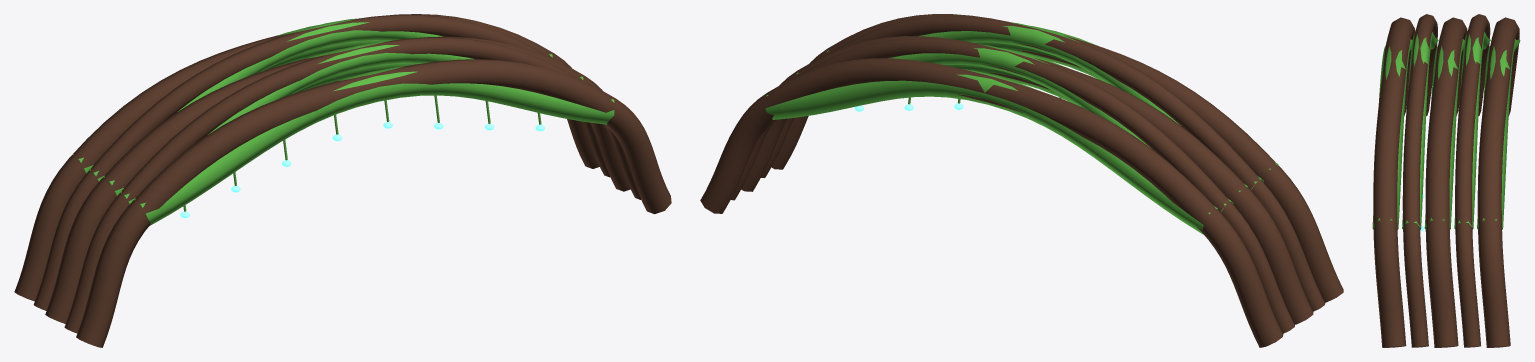
The model's file is gerbang-akar.glb.
3 views of the same model, side by side, from view 1: azimuth 30°, elevation 25°; view 2: azimuth 150°, elevation 25°; view 3: azimuth 270°, elevation 25° (orthographic). The views are drawn at different scales.
Visible parts, largest first — view 1: tube, tube.002, tube.006, tube.001, tube.004, tube.008, tube.007, tube.003, tube.005, tube.009; view 2: tube.008, tube.006, tube.002, tube.004, tube, tube.009, tube.007, tube.003, tube.001, tube.005; view 3: tube.008, tube, tube.004, tube.006, tube.002, tube.003, tube.007, tube.009, tube.001, tube.005.
Part boxes in pixels (box(x1,y1,x2,y2)): tube: box(76, 59, 671, 347); tube.002: box(64, 37, 640, 333); tube.006: box(33, 14, 609, 310); tube.001: box(134, 66, 614, 225); tube.004: box(45, 36, 630, 323); tube.008: box(14, 14, 599, 301); tube.007: box(89, 18, 442, 181); tube.003: box(120, 41, 474, 203); tube.005: box(103, 47, 583, 195); tube.009: box(72, 25, 552, 173); tube.008: box(700, 58, 1283, 347); tube.006: box(731, 38, 1294, 333); tube.002: box(761, 16, 1325, 311); tube.004: box(741, 36, 1313, 324); tube: box(771, 14, 1343, 302); tube.009: box(765, 69, 1217, 234); tube.007: box(889, 44, 1231, 211); tube.003: box(918, 22, 1261, 189); tube.001: box(827, 26, 1278, 181); tube.005: box(796, 48, 1248, 204); tube.008: box(1477, 17, 1519, 347); tube: box(1373, 17, 1415, 347); tube.004: box(1425, 17, 1467, 347); tube.006: box(1455, 14, 1490, 347); tube.002: box(1402, 14, 1437, 347); tube.003: box(1402, 32, 1438, 229); tube.007: box(1454, 32, 1490, 229); tube.009: box(1477, 39, 1520, 229); tube.001: box(1372, 39, 1412, 229); tube.005: box(1424, 39, 1464, 229).
Bounding box in the file's own units: 66.45 × 23.65 × 17.
